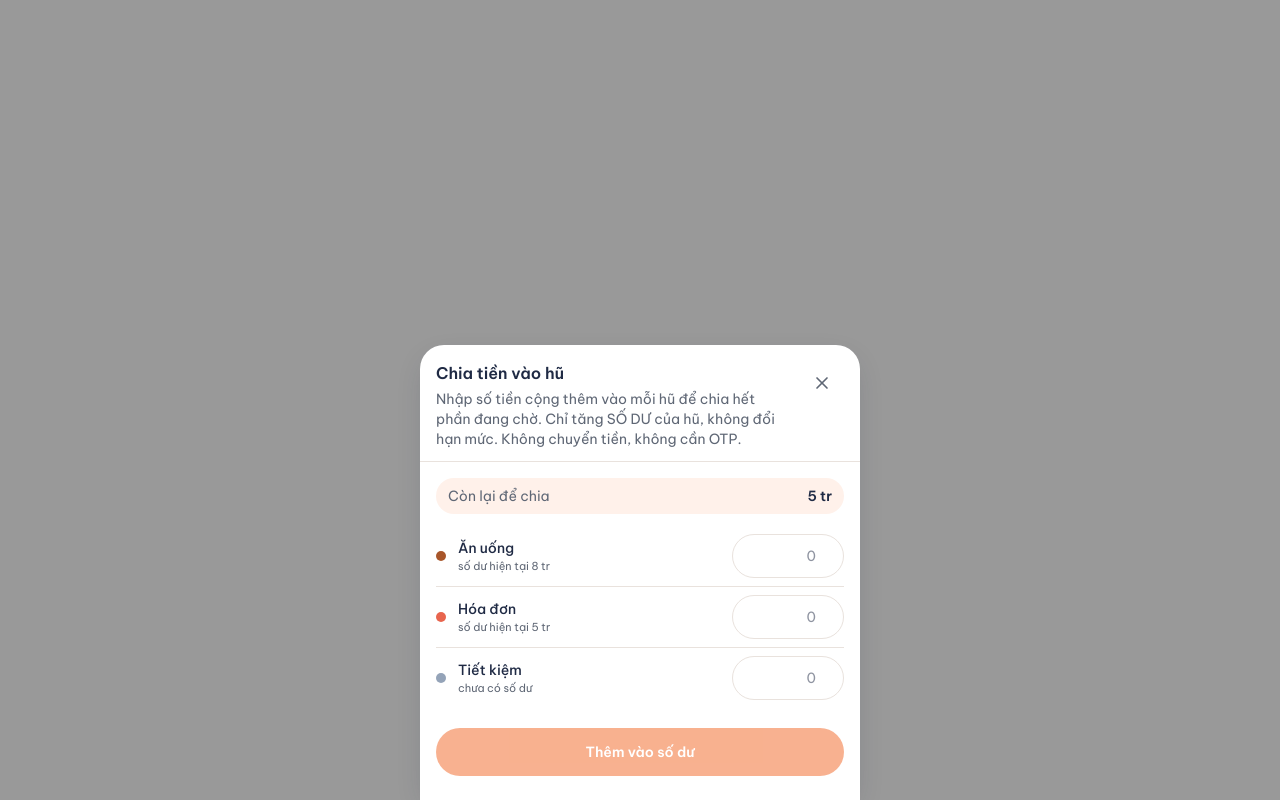
Test: AllocationSheet — cộng thêm vào hũ › lô bị từ chối: giữ NGUYÊN bản nháp, hiện lý do từ máy chủ, không đóng sheet
The width and height of the screenshot is (1280, 800).
Type "1000000" into the number field named "Cộng thêm vào hũ Ăn uống" at (788, 556), box [732,534,844,578]
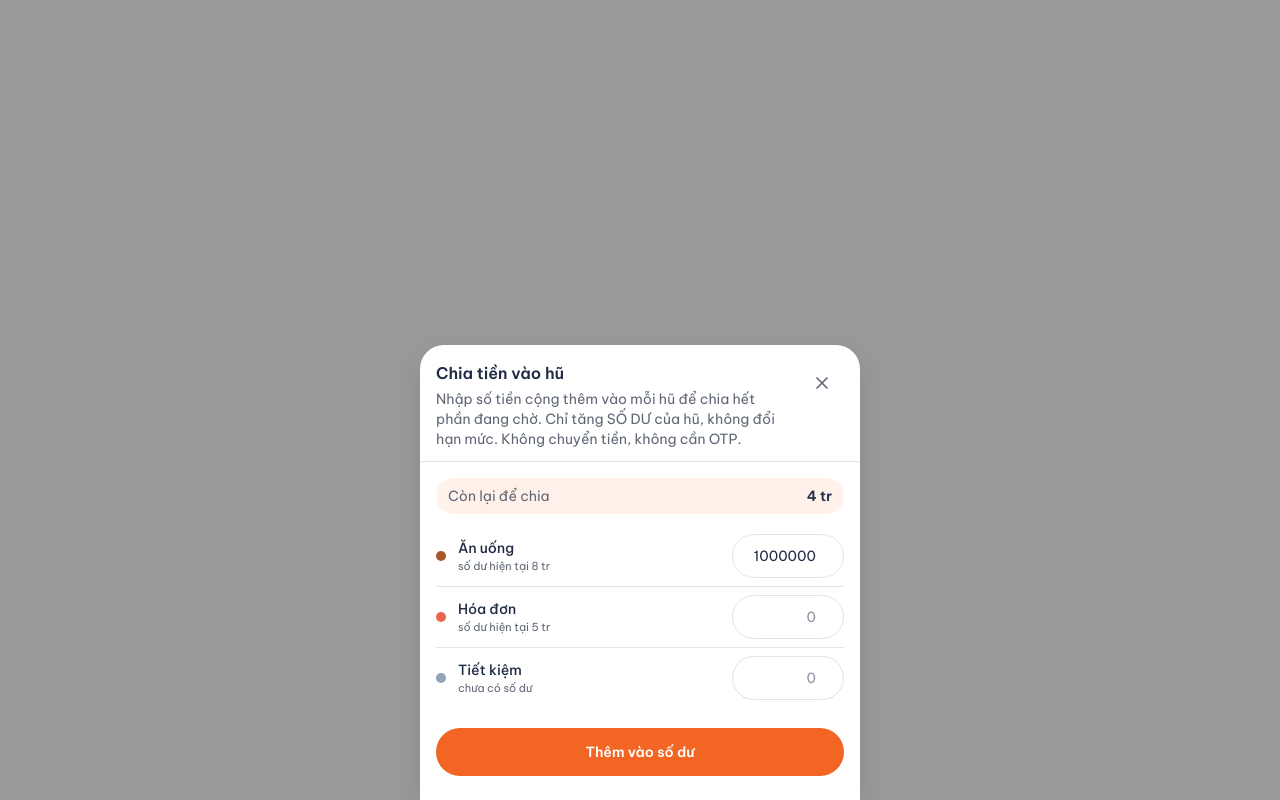
Type "2000000" into the number field named "Cộng thêm vào hũ Hóa đơn" at (788, 617), box [732,595,844,639]
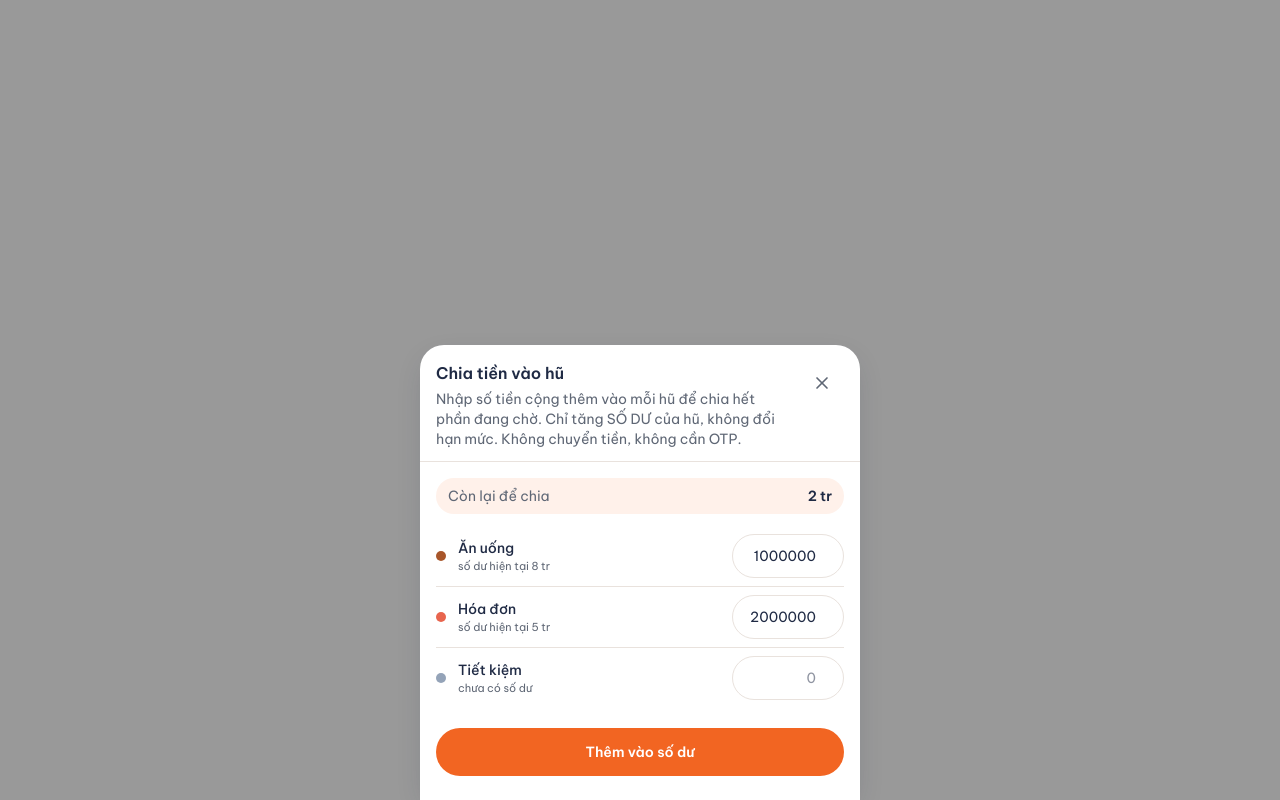
Click the button "Thêm vào số dư" at (640, 752), box [436,728,844,776]
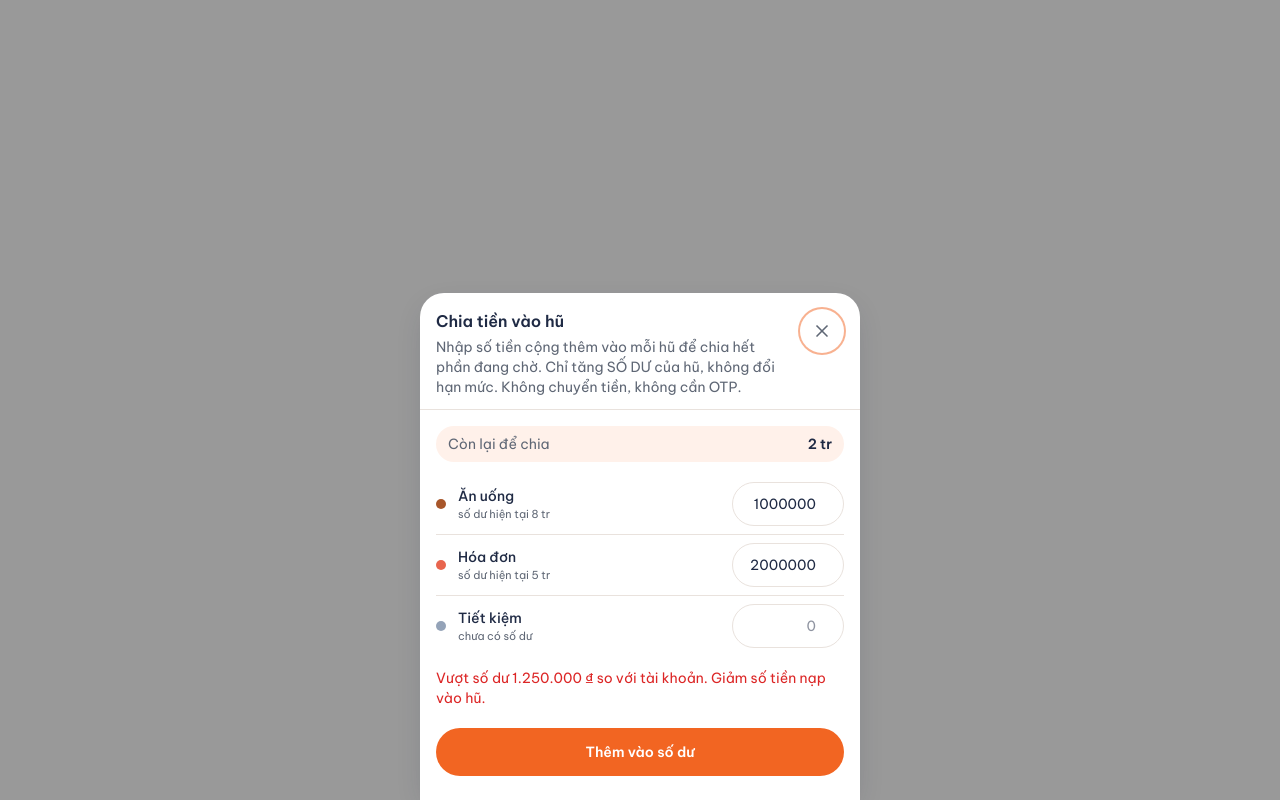
expect the button "Thêm vào số dư" is enabled: met, box [436,728,844,776]
expect the message shows "Vượt số dư 1.250.000": met, box [436,669,826,707]
